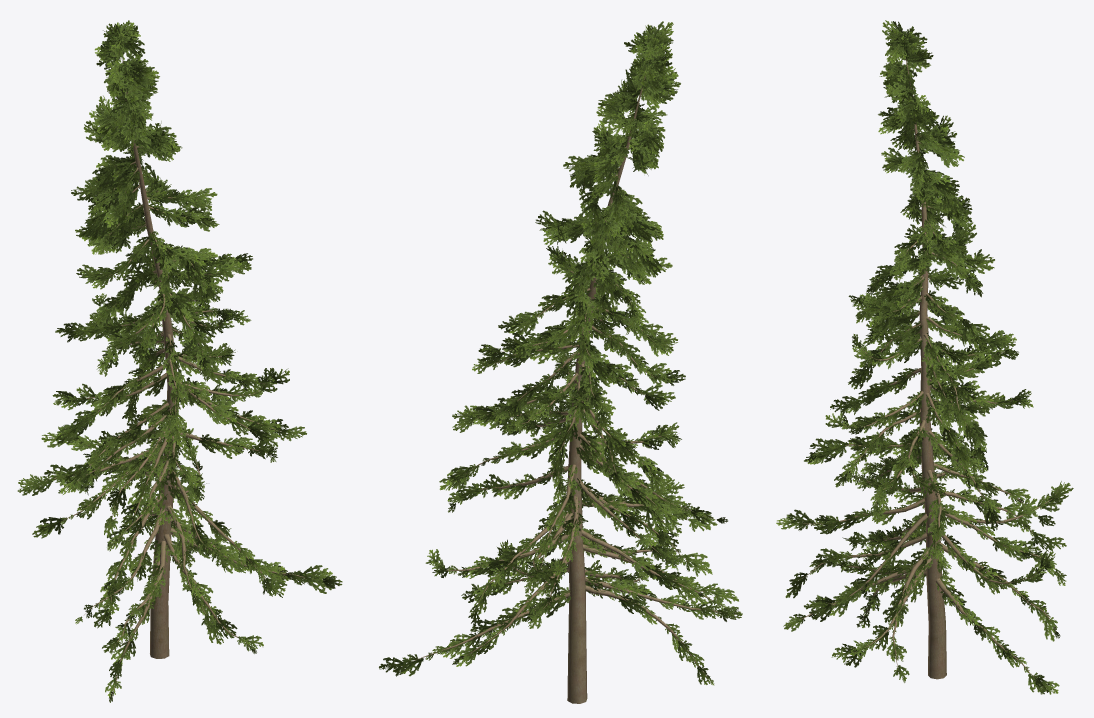
The model's file is pine_small_01.glb.
The picture shows the model from 3 angles, left to right: view 1: azimuth 30°, elevation 25°; view 2: azimuth 150°, elevation 25°; view 3: azimuth 270°, elevation 25°; orthographic projection. The views are drawn at different scales.
Visible parts, largest first — view 1: Tree; view 2: Tree; view 3: Tree.
Part boxes in pixels (left/top/right/bottom): Tree: left=17, top=20, right=342, bottom=702; Tree: left=379, top=21, right=742, bottom=703; Tree: left=776, top=20, right=1073, bottom=694.
Bounding box in the file's own units: 16.99 × 40.37 × 17.74.
2 materials, 2 textured.
